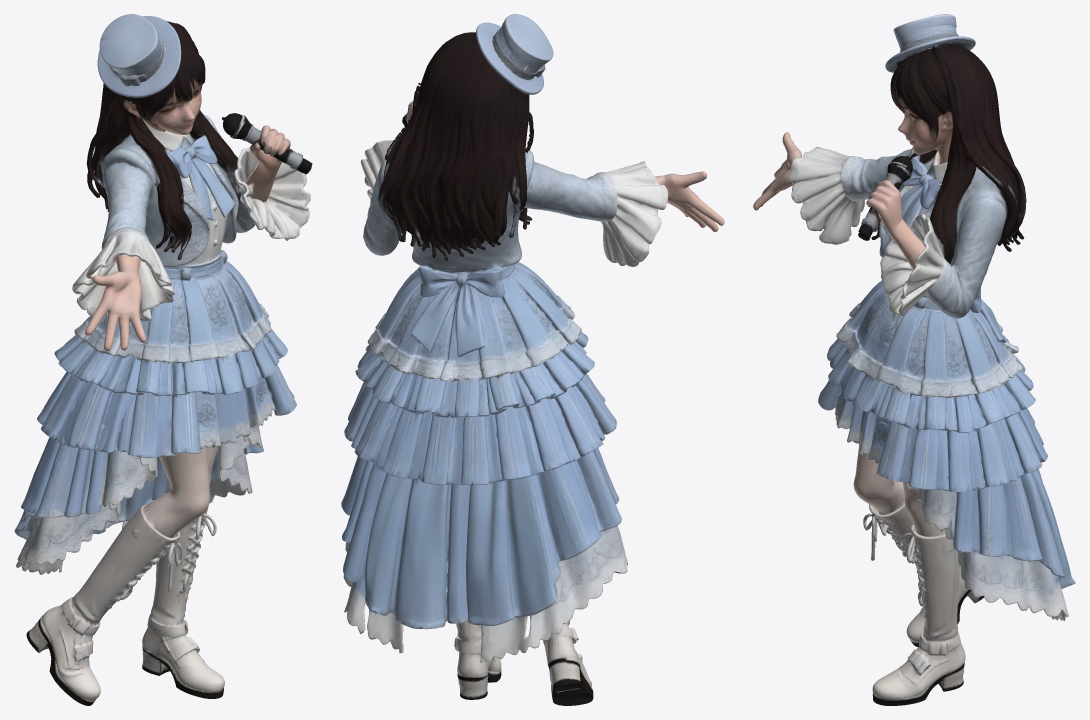
Rendered from dresssinger.glb.
3 views of the same model, side by side, from view 1: azimuth 30°, elevation 25°; view 2: azimuth 150°, elevation 25°; view 3: azimuth 270°, elevation 25° (orthographic). The views are drawn at different scales.
Visible parts, largest first — view 1: tripo_node_ee11e119-333b-4c44-8d5b-33125add7621; view 2: tripo_node_ee11e119-333b-4c44-8d5b-33125add7621; view 3: tripo_node_ee11e119-333b-4c44-8d5b-33125add7621.
Boxes of the visible parts, x1,y1,x2,y2 form: tripo_node_ee11e119-333b-4c44-8d5b-33125add7621: (14, 14, 312, 705); tripo_node_ee11e119-333b-4c44-8d5b-33125add7621: (341, 14, 724, 705); tripo_node_ee11e119-333b-4c44-8d5b-33125add7621: (753, 14, 1075, 705).
Size of the model in its own units: 0.4418 by 0.98 by 0.4326.
Materials: 1 (1 with a texture image).
